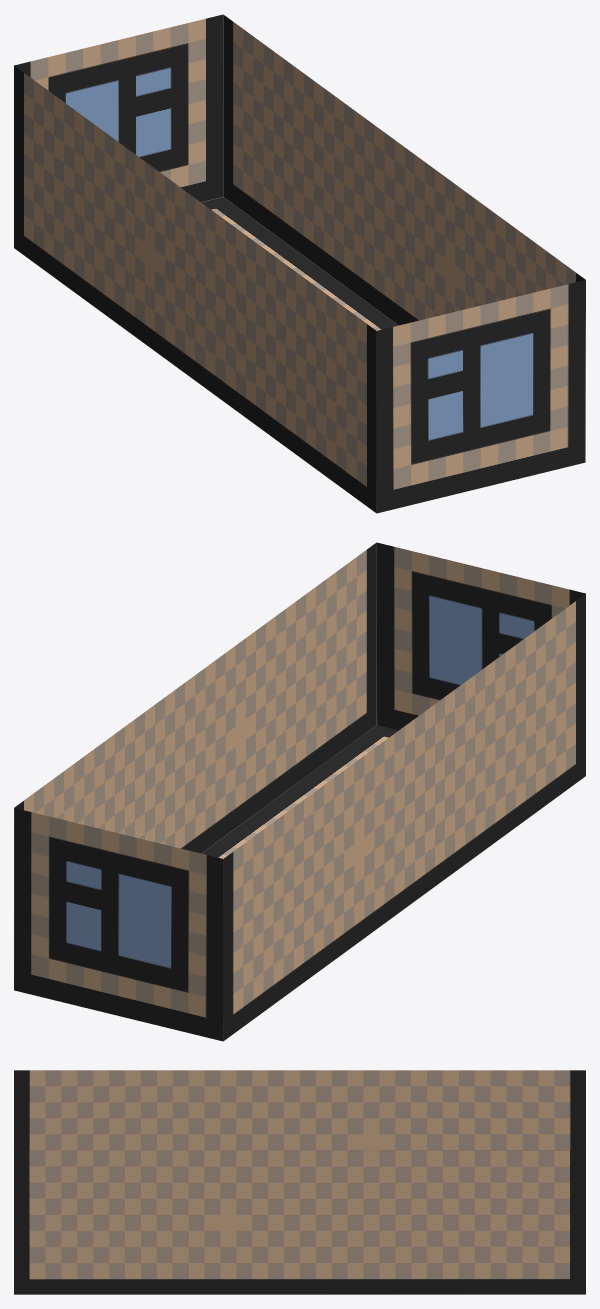
File: bedroom_floorWalls.glb
3 views of the same model, one above another, from view 1: azimuth 30°, elevation 25°; view 2: azimuth 150°, elevation 25°; view 3: azimuth 270°, elevation 25° (orthographic). The views are drawn at different scales.
Parts seen in each view (by area): view 1: Walls1, Walls2, Floor; view 2: Walls1, Walls2, Floor; view 3: Walls2, Walls1.
Part boxes in pixels (bbox=[...]): Walls1: bbox=[14, 66, 585, 513]; Walls2: bbox=[14, 14, 585, 325]; Floor: bbox=[201, 197, 398, 330]; Walls1: bbox=[223, 542, 585, 1041]; Walls2: bbox=[14, 542, 376, 1041]; Floor: bbox=[201, 725, 398, 858]; Walls2: bbox=[14, 1150, 585, 1294]; Walls1: bbox=[14, 1070, 585, 1150].
Bounding box in the file's own units: 3 × 2.5 × 9.
Materials: 1 (1 with a texture image).
